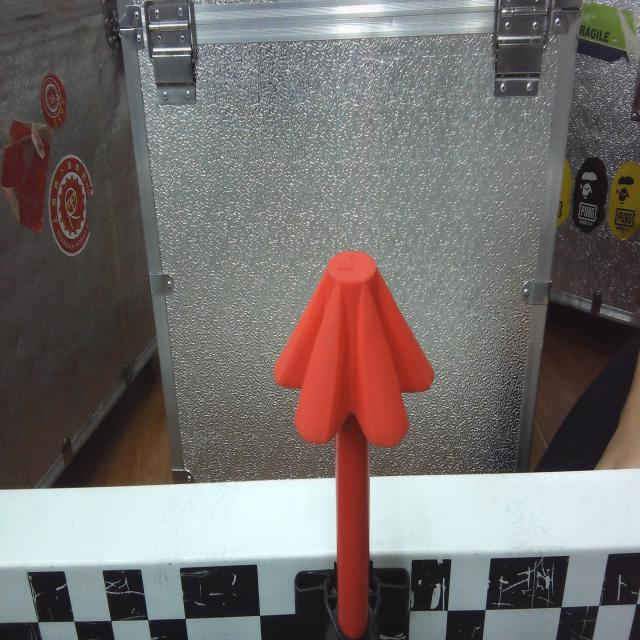zred-Stake-Head: (274, 250, 435, 448)
